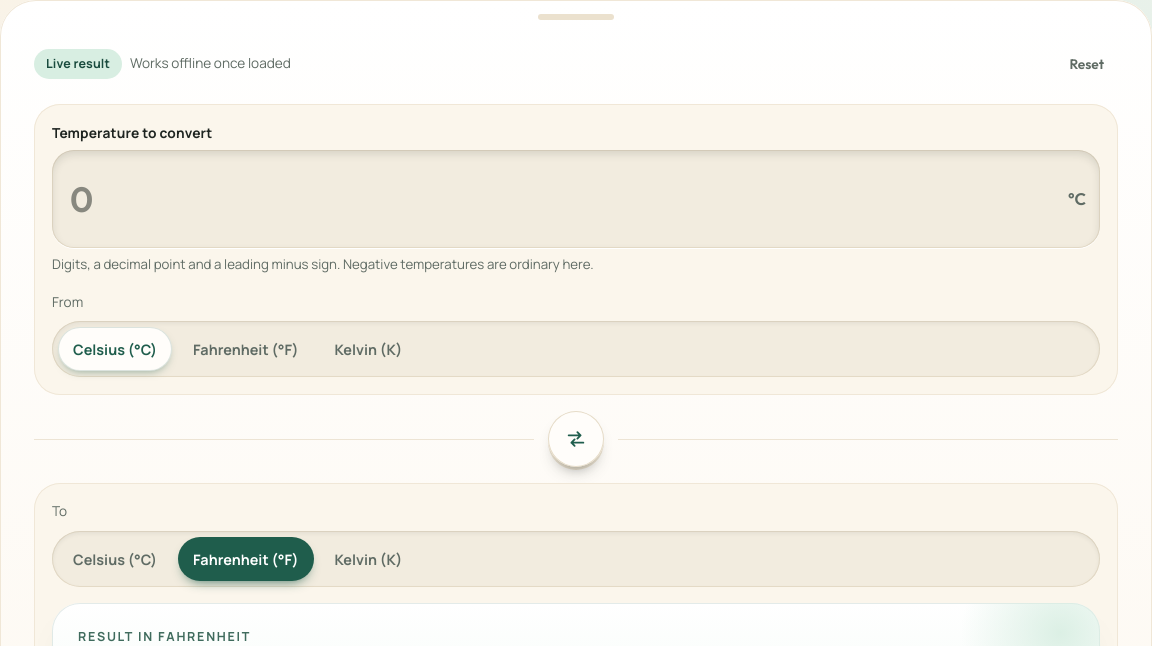
TemperatureConverter › refuses -1 on Kelvin (K) as below absolute zero
Click the radio button labelled "Kelvin (K)" below "From" at (368, 349), box left=320, top=327, right=417, bottom=371
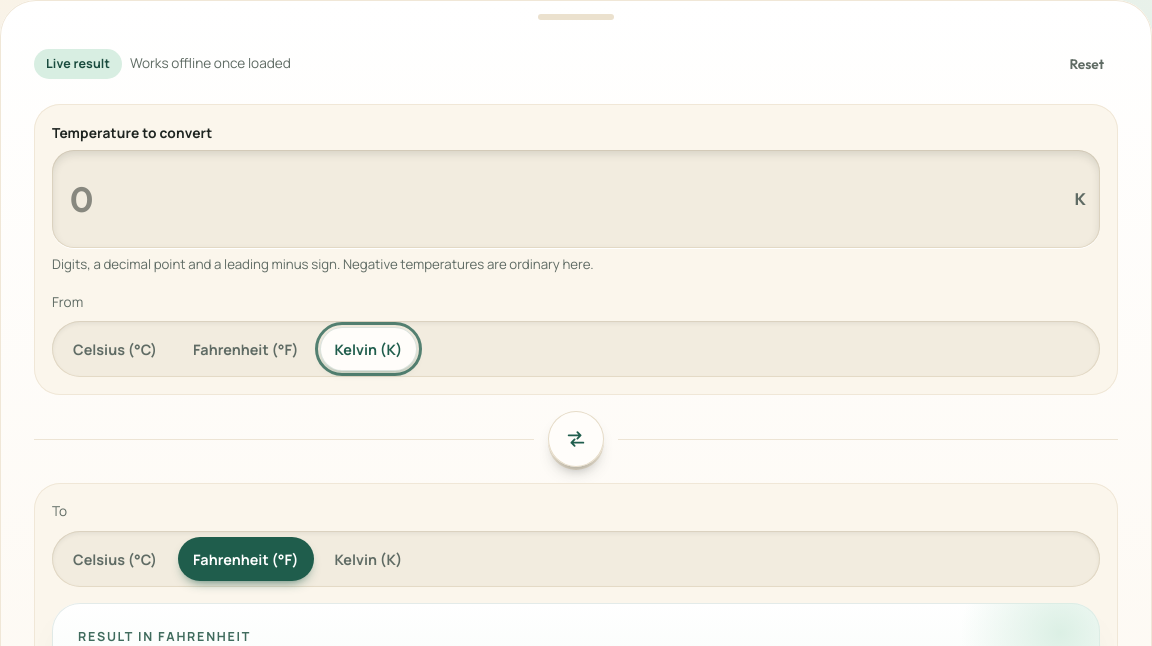
Type "-1" into the field labelled "Temperature to convert" at (566, 199), box left=66, top=158, right=1066, bottom=240
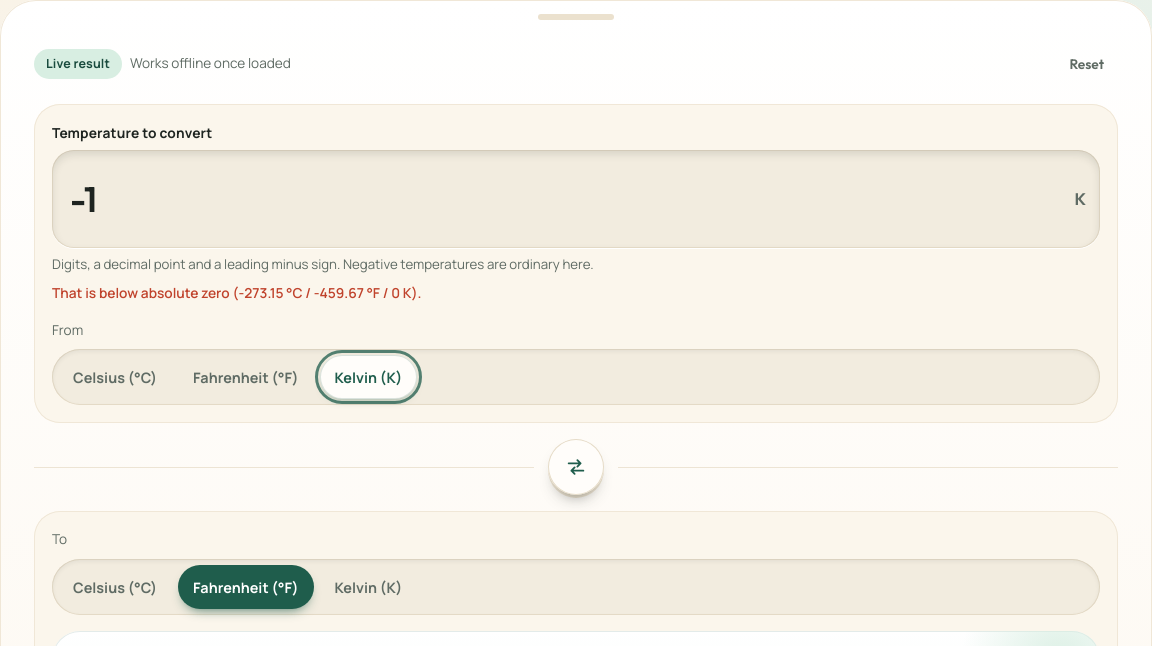
Now the message reads "That is below absolute zero (-273.15 °C / -459.67 °F / 0 K).", box left=52, top=283, right=422, bottom=302
